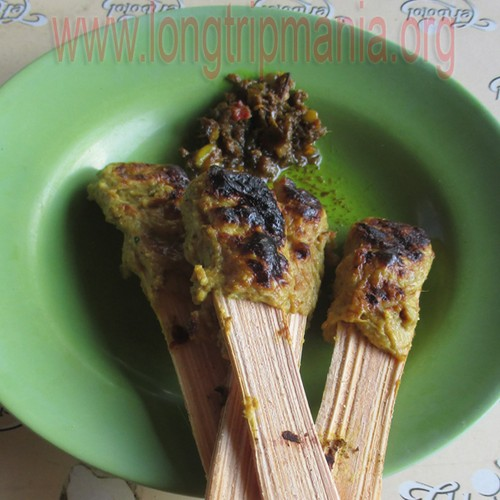sate languan: (112, 144, 429, 369)
